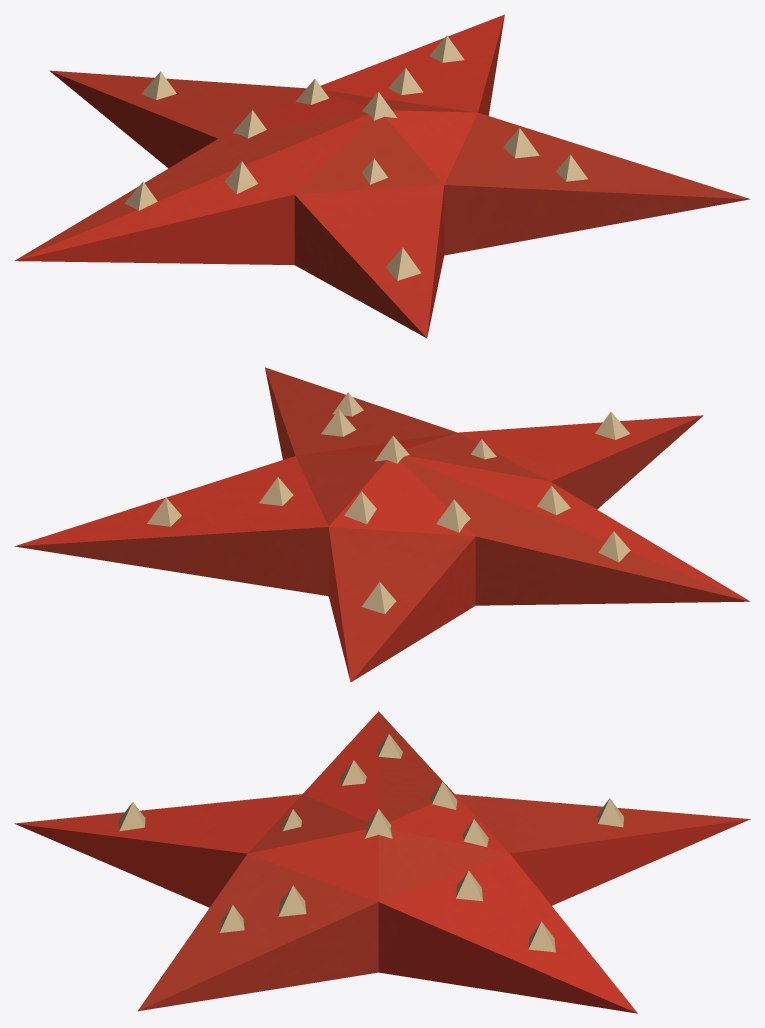
The model's file is StarFish.fbx.
3 views of the same model, one above another, from view 1: azimuth 30°, elevation 25°; view 2: azimuth 150°, elevation 25°; view 3: azimuth 270°, elevation 25° (orthographic).
Visible parts, largest first — view 1: polySurface175; view 2: polySurface175; view 3: polySurface175.
Boxes of the visible parts, box(x1,y1,x2,y2) form: polySurface175: box(14, 14, 750, 338); polySurface175: box(14, 367, 750, 682); polySurface175: box(14, 711, 750, 1013).
Size of the model in its own units: 139 by 30.4 by 143.
